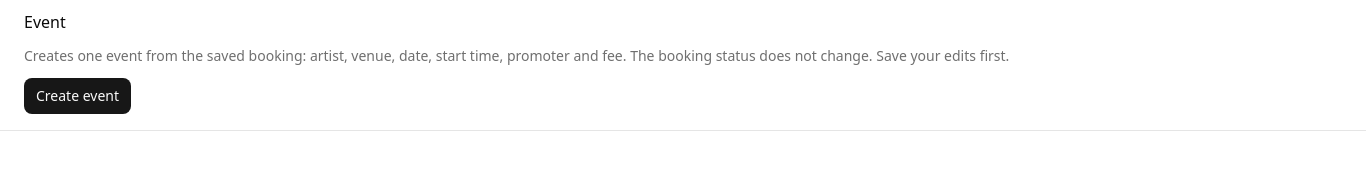
Test case: does not claim a result when the request throws, and never shows the thrown detail
Click the button "Create event" at (78, 96), box [24,78,131,114]
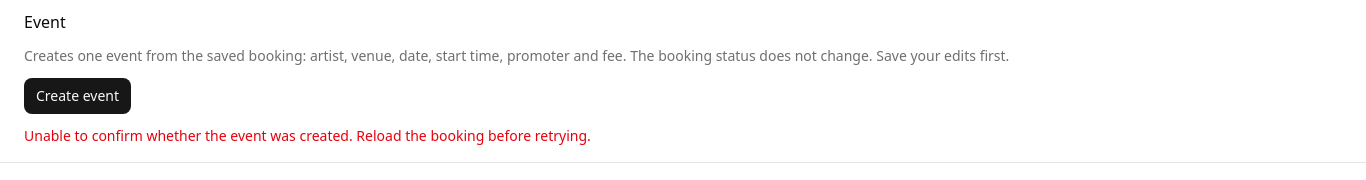
expect the message shows "Unable to confirm whether the event was created. Reload the booking before retrying.": met, box [24,126,591,145]
